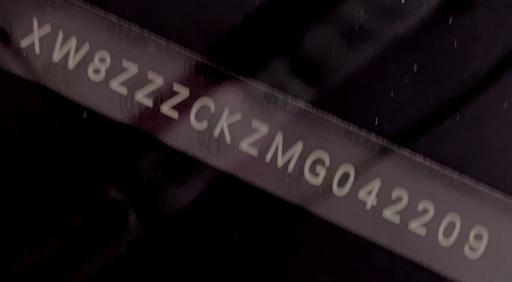letter: (264, 128, 308, 174), (48, 26, 92, 69), (236, 116, 276, 158), (18, 11, 54, 56), (158, 79, 194, 122), (107, 55, 143, 98), (301, 144, 333, 191), (132, 68, 168, 109), (354, 172, 390, 213), (404, 195, 438, 238), (380, 183, 412, 226), (212, 103, 244, 145), (462, 219, 492, 263), (434, 207, 464, 250), (188, 93, 216, 133), (330, 158, 358, 198), (86, 46, 114, 83)
